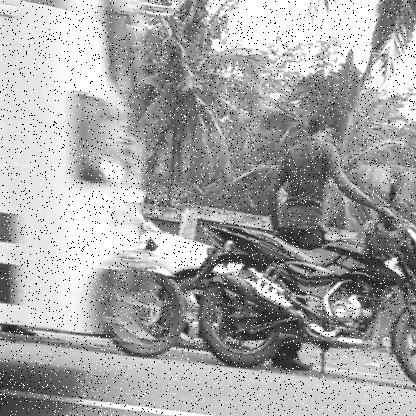motorcycle: (177, 189, 416, 401)
